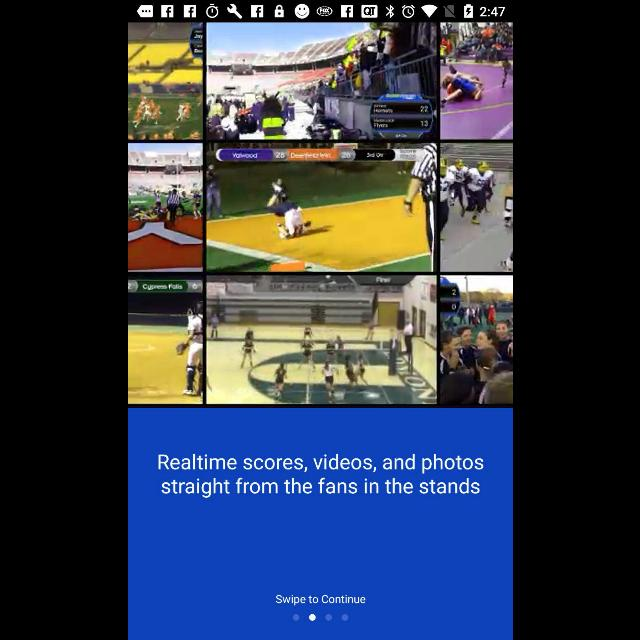image: (128, 24, 512, 406)
pageindicator: (292, 614, 348, 622)
text: (157, 454, 483, 498), (275, 594, 365, 606)
uppertaskbar: (128, 1, 512, 23)
